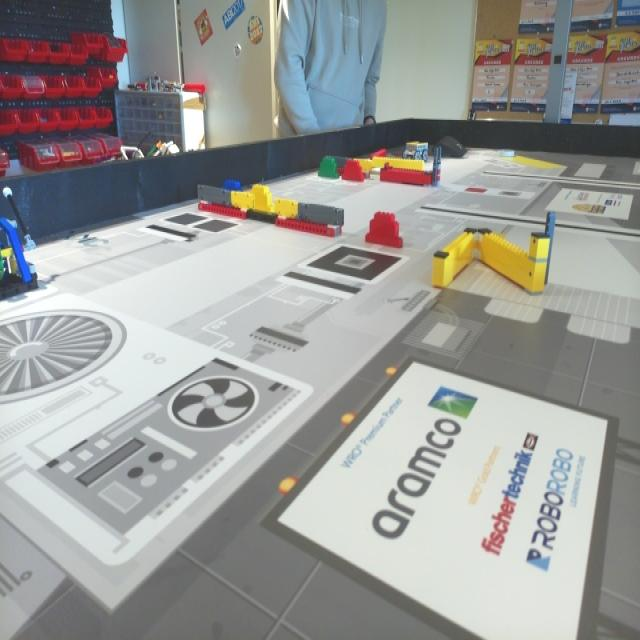blau: (224, 177, 240, 190)
gruen: (318, 156, 338, 180)
rot: (367, 213, 402, 247), (344, 162, 364, 181)
yellow: (251, 183, 271, 208)
